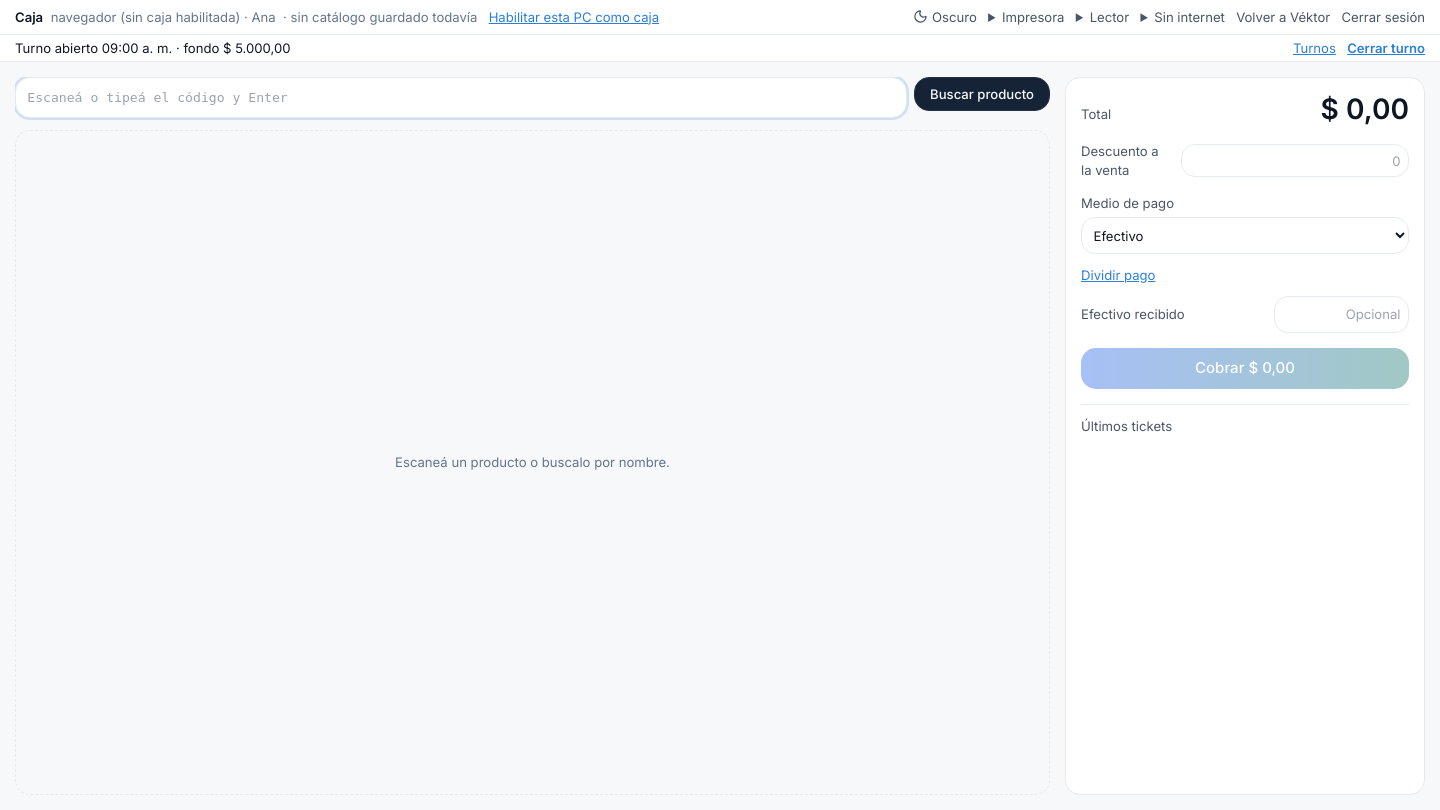
Test: cierre ciego › si se perdió la respuesta, antes de reenviar pregunta y muestra lo firmado
Click the button "Cerrar turno" at [1386, 48], box [1347,38,1425,57]
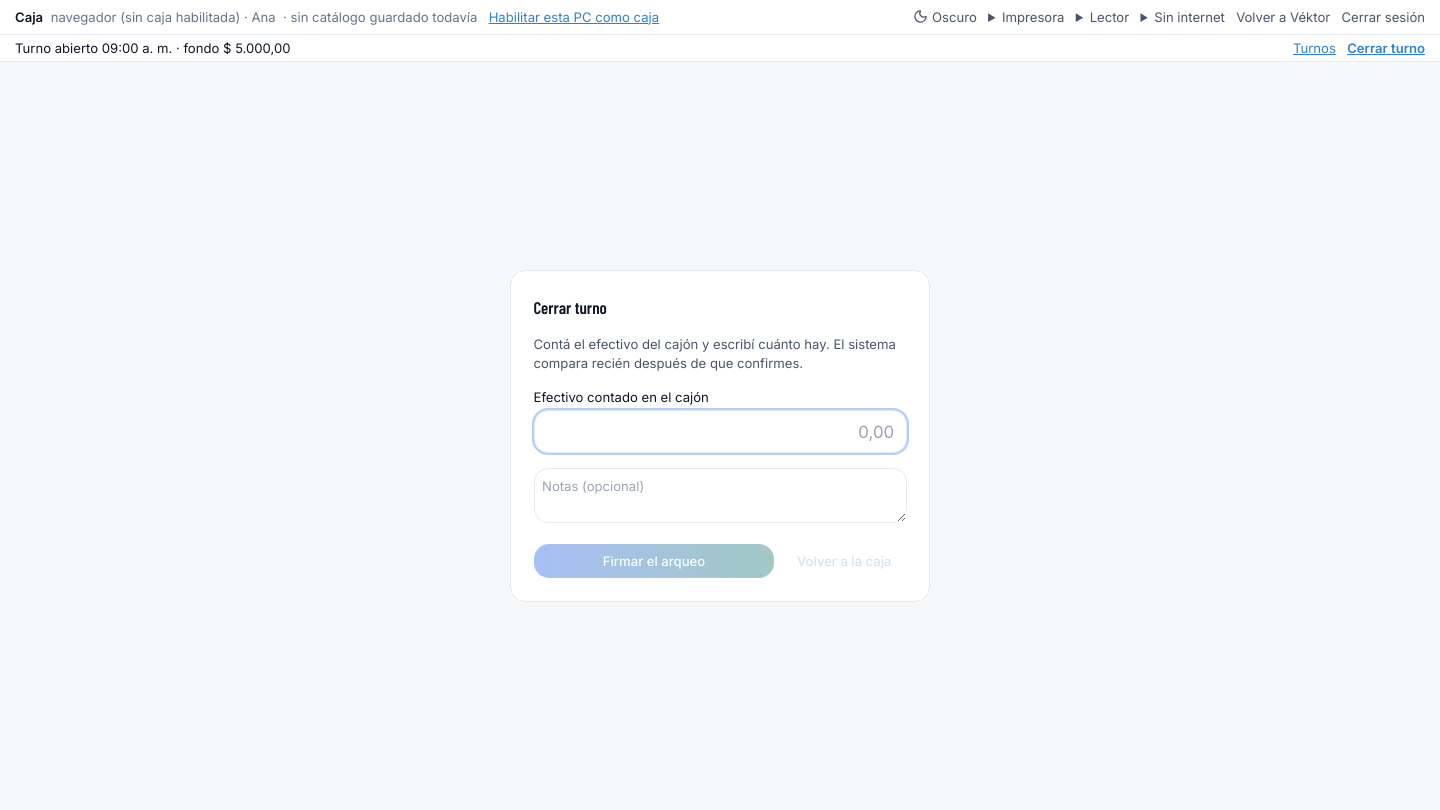
Type "5000" into the field labelled "Efectivo contado" at [720, 432], box [534,410,906,453]
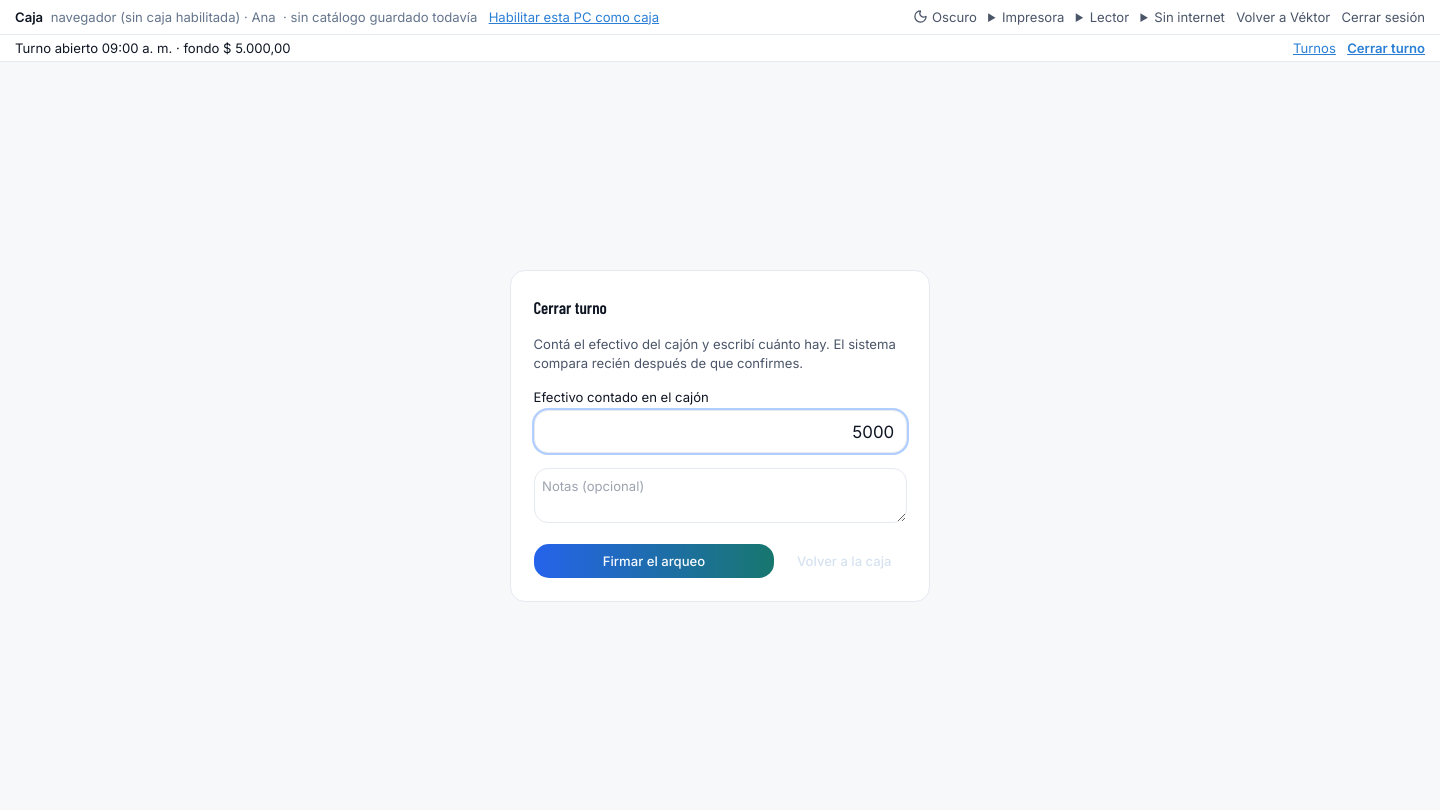
Click the button "Firmar el arqueo" at [654, 561], box [534,544,774,578]
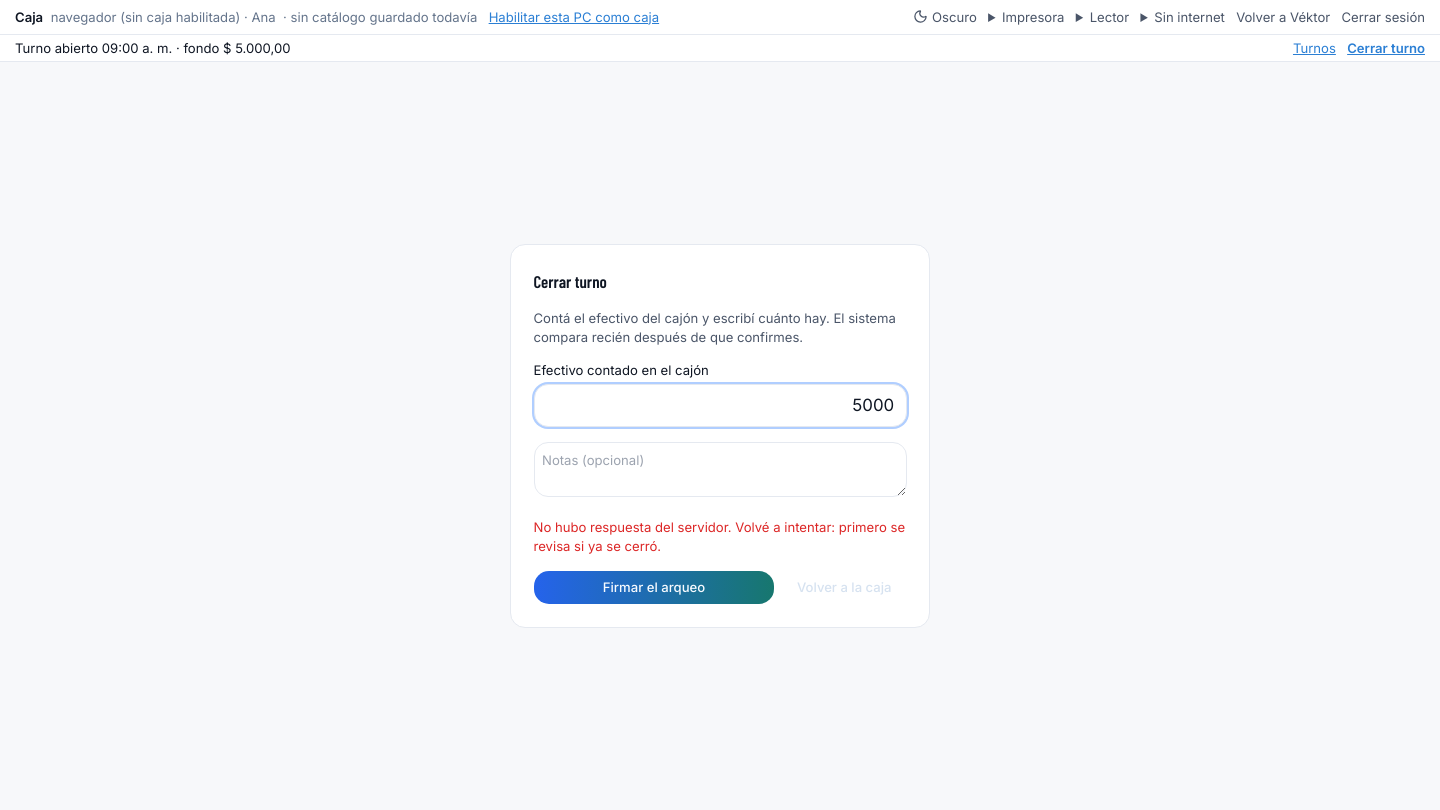
Check: the text "No hubo respuesta del servidor" is shown, box [534,519,905,554]
Click the button "Firmar el arqueo" at [654, 588], box [534,571,774,604]
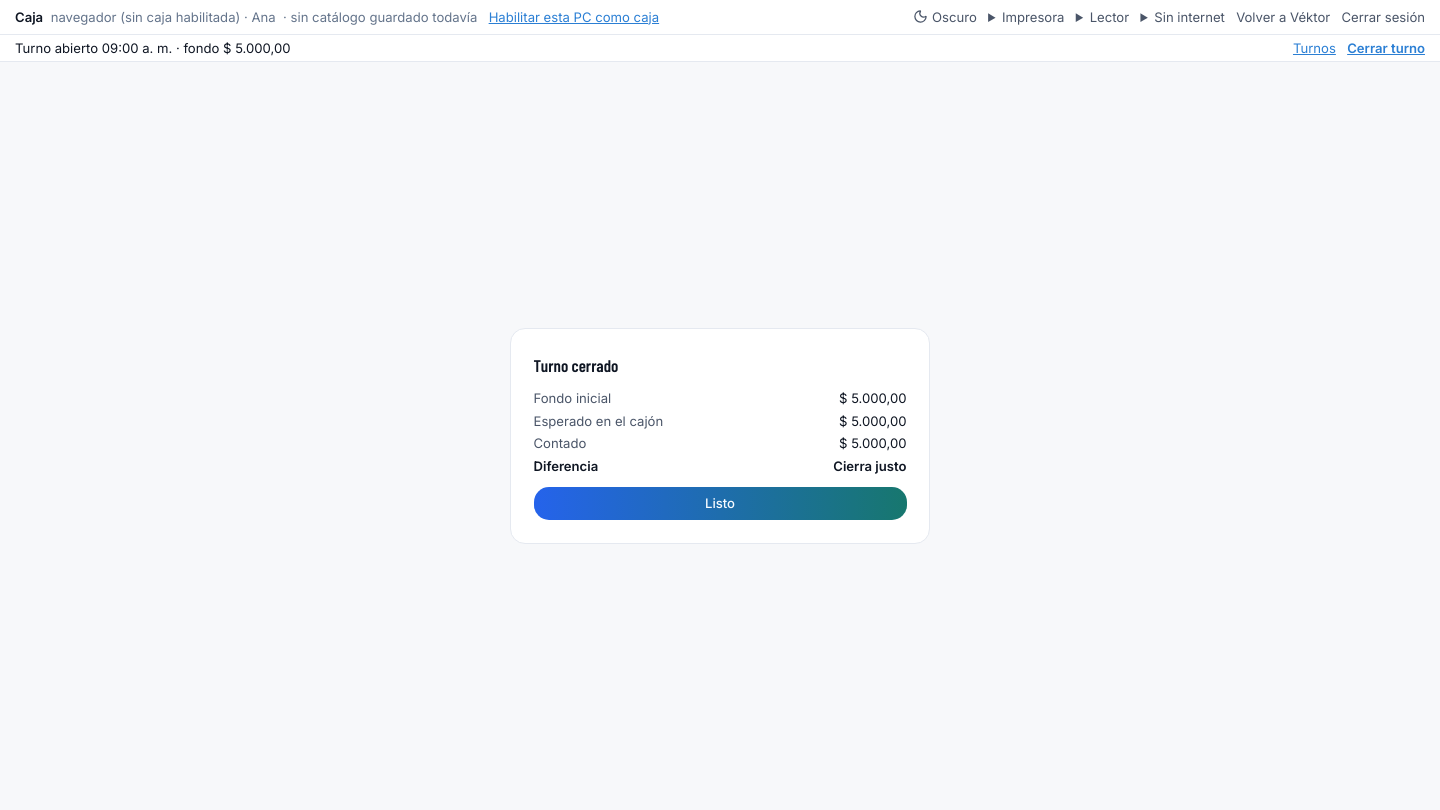
Check: the text with test id "arqueo-diferencia" reads "Cierra justo", box [833,458,906,474]
